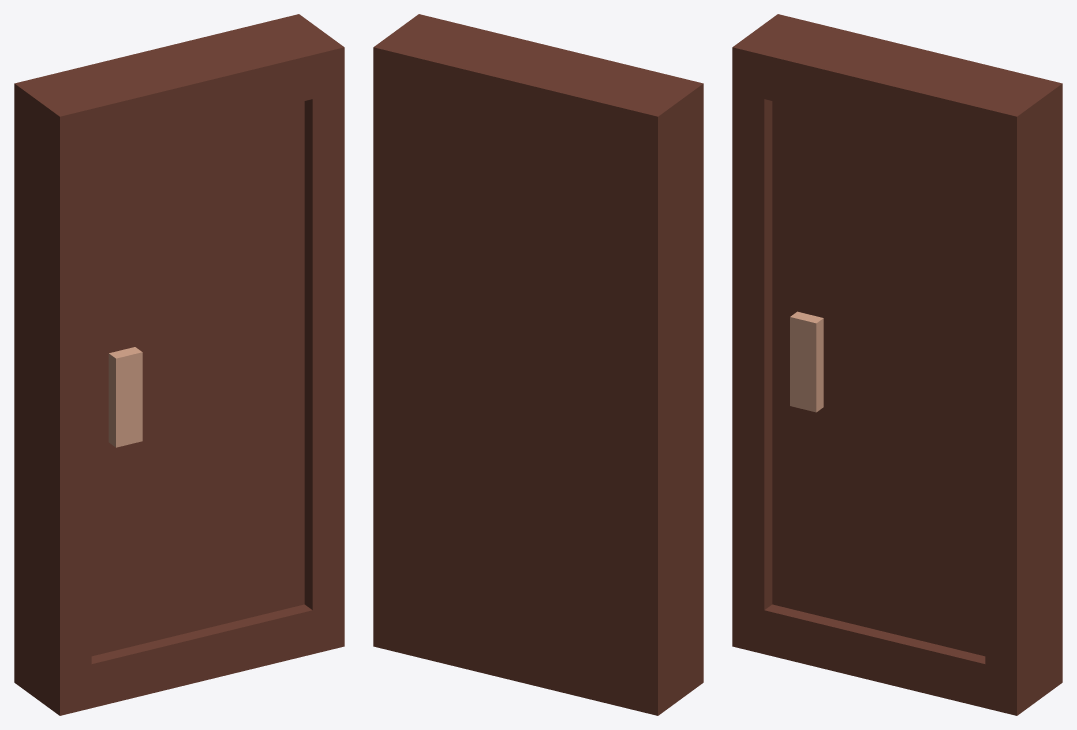
The model's file is exitdoor.glb.
The picture shows the model from 3 angles, left to right: view 1: azimuth 30°, elevation 25°; view 2: azimuth 150°, elevation 25°; view 3: azimuth 330°, elevation 25°; orthographic projection.
Visible parts, largest first — view 1: emergency Exit; view 2: emergency Exit; view 3: emergency Exit.
Boxes of the visible parts, <box> form: emergency Exit: <box>14,14,344,715</box>; emergency Exit: <box>373,14,703,715</box>; emergency Exit: <box>732,14,1062,715</box>.
Bounding box in the file's own units: 2.12 × 4.26 × 0.5857.
